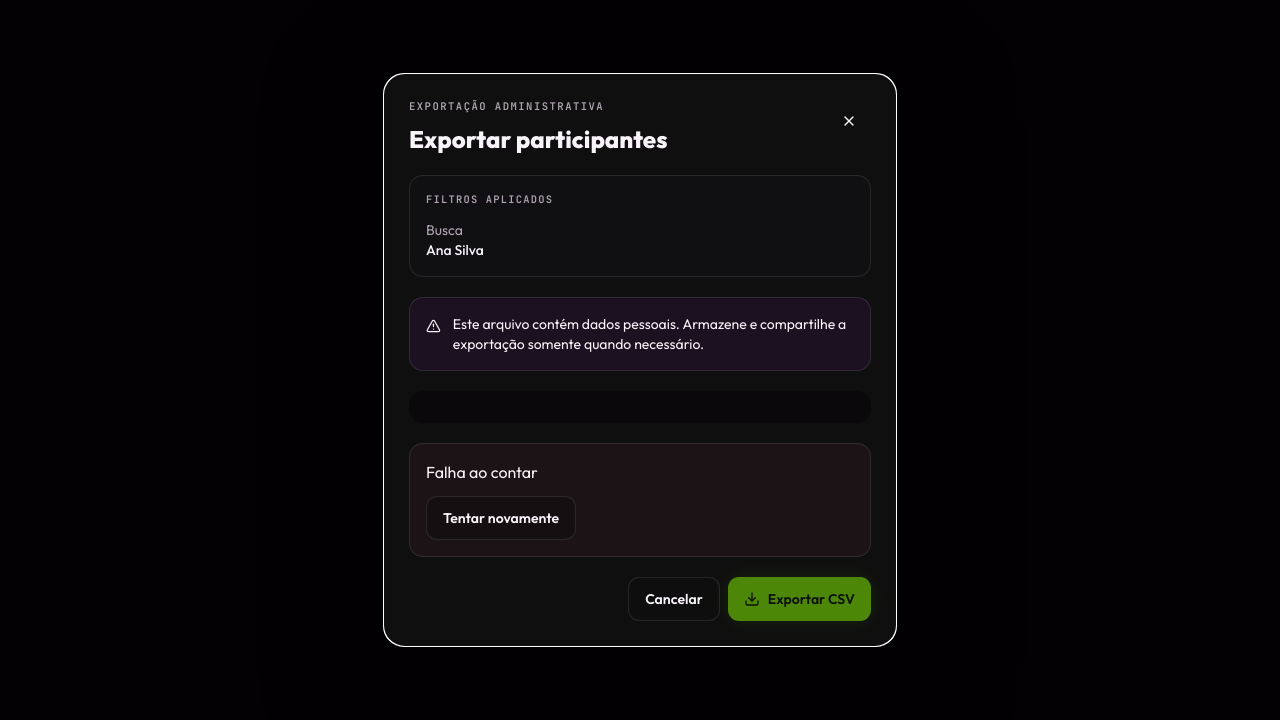
it: AdminExportDialog › keeps the count error available for retry
Expected: the message "Falha ao contar Tentar novamente" is shown, [409,443,871,557]
Click the button "Tentar novamente".
click(501, 518)  # box [426,496,576,540]
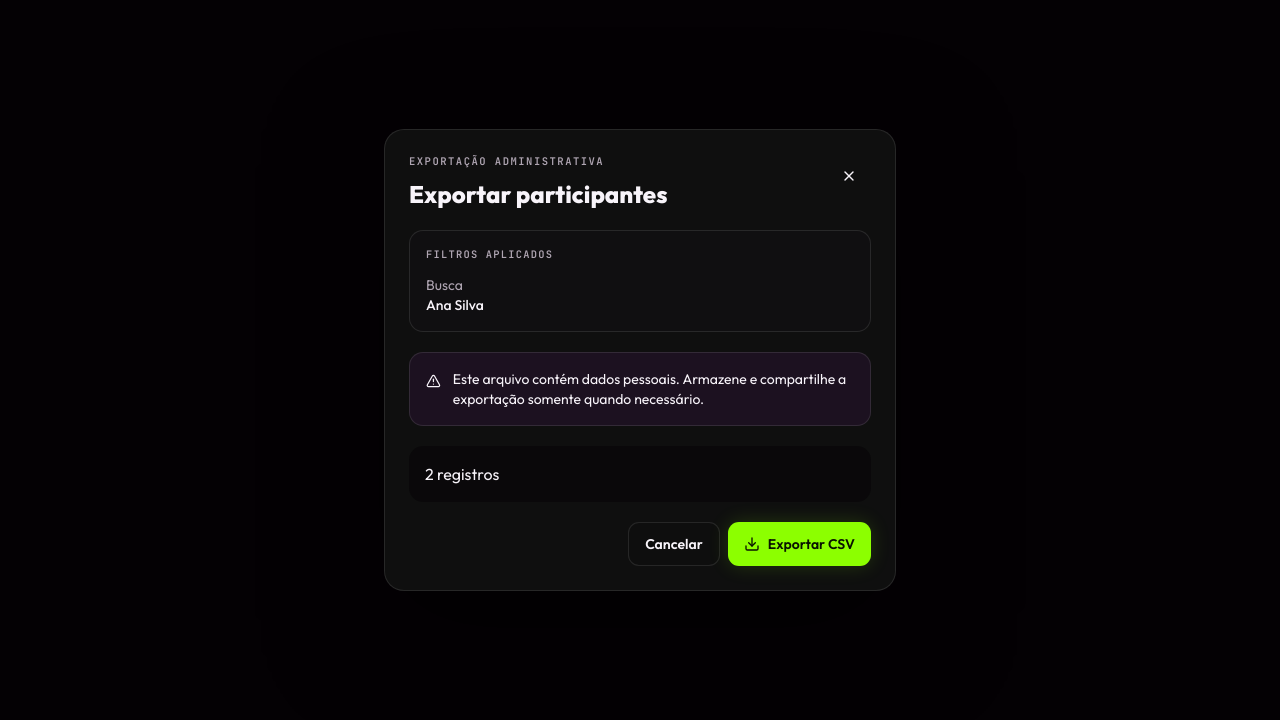
Now the text "2 registros" is shown, box [425,464,499,484]
